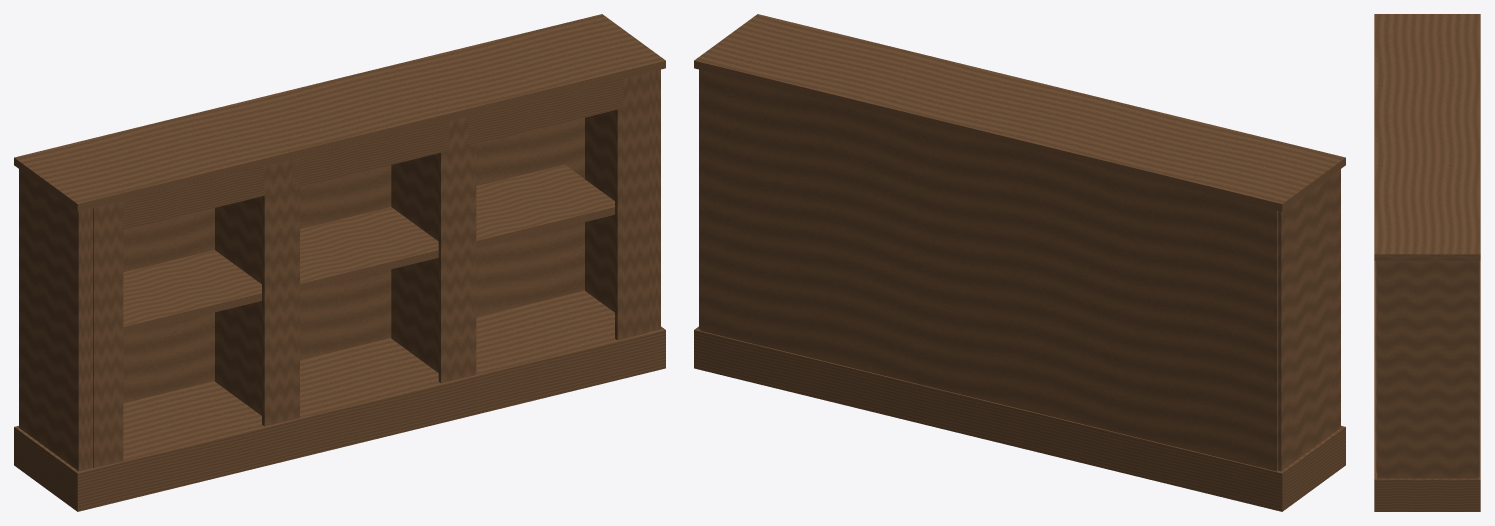
The picture shows the model from 3 angles, left to right: view 1: azimuth 30°, elevation 25°; view 2: azimuth 150°, elevation 25°; view 3: azimuth 270°, elevation 25°; orthographic projection. The views are drawn at different scales.
Parts seen in each view (by area): view 1: 2 base_plinth, 1 top_panel, 3 back_panel, 4 left_side_panel, 7 middle_left_front_stile, 8 middle_right_front_stile, 5 right_side_panel, 9 right_front_stile, 6 left_front_stile, 12 left_shelf, 13 middle_shelf, 11 right_interior_divider (+5 smaller); view 2: 3 back_panel, 1 top_panel, 2 base_plinth, 4 left_side_panel; view 3: 1 top_panel, 5 right_side_panel, 2 base_plinth, 3 back_panel, 9 right_front_stile.
Boxes of the visible parts, left/top/right/bottom form: 2 base_plinth: left=14, top=290, right=665, bottom=511; 1 top_panel: left=14, top=14, right=665, bottom=211; 3 back_panel: left=123, top=117, right=584, bottom=403; 4 left_side_panel: left=19, top=169, right=93, bottom=471; 7 middle_left_front_stile: left=262, top=158, right=299, bottom=426; 8 middle_right_front_stile: left=438, top=116, right=476, bottom=383; 5 right_side_panel: left=585, top=69, right=660, bottom=332; 9 right_front_stile: left=615, top=73, right=646, bottom=340; 6 left_front_stile: left=93, top=201, right=123, bottom=468; 12 left_shelf: left=123, top=250, right=261, bottom=334; 13 middle_shelf: left=300, top=207, right=438, bottom=291; 11 right_interior_divider: left=391, top=153, right=438, bottom=372; 3 back_panel: left=700, top=70, right=1278, bottom=471; 1 top_panel: left=694, top=14, right=1345, bottom=211; 2 base_plinth: left=694, top=326, right=1345, bottom=511; 4 left_side_panel: left=1278, top=169, right=1340, bottom=471; 1 top_panel: left=1374, top=14, right=1480, bottom=260; 5 right_side_panel: left=1377, top=260, right=1477, bottom=478; 2 base_plinth: left=1374, top=260, right=1480, bottom=511; 3 back_panel: left=1477, top=260, right=1479, bottom=477; 9 right_front_stile: left=1376, top=260, right=1377, bottom=472.
Bounding box in the file's own units: 2 × 1 × 0.375.
1 material, 1 textured.
